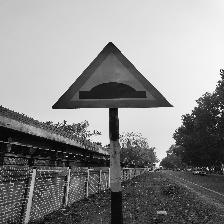Speed-breaker: (52, 35, 175, 112)
